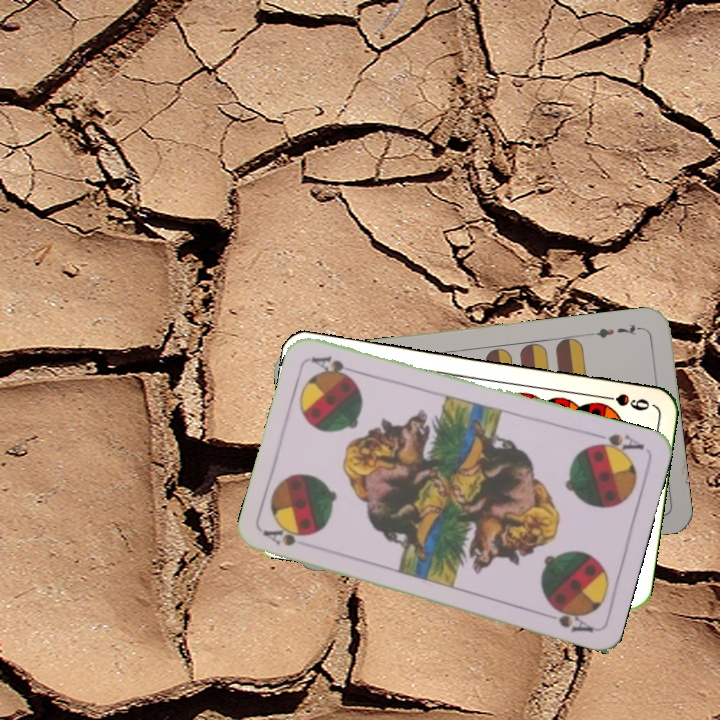E7: (586, 320, 645, 341)
S9: (594, 389, 652, 414)
SA: (586, 429, 647, 458), (260, 526, 305, 549)
